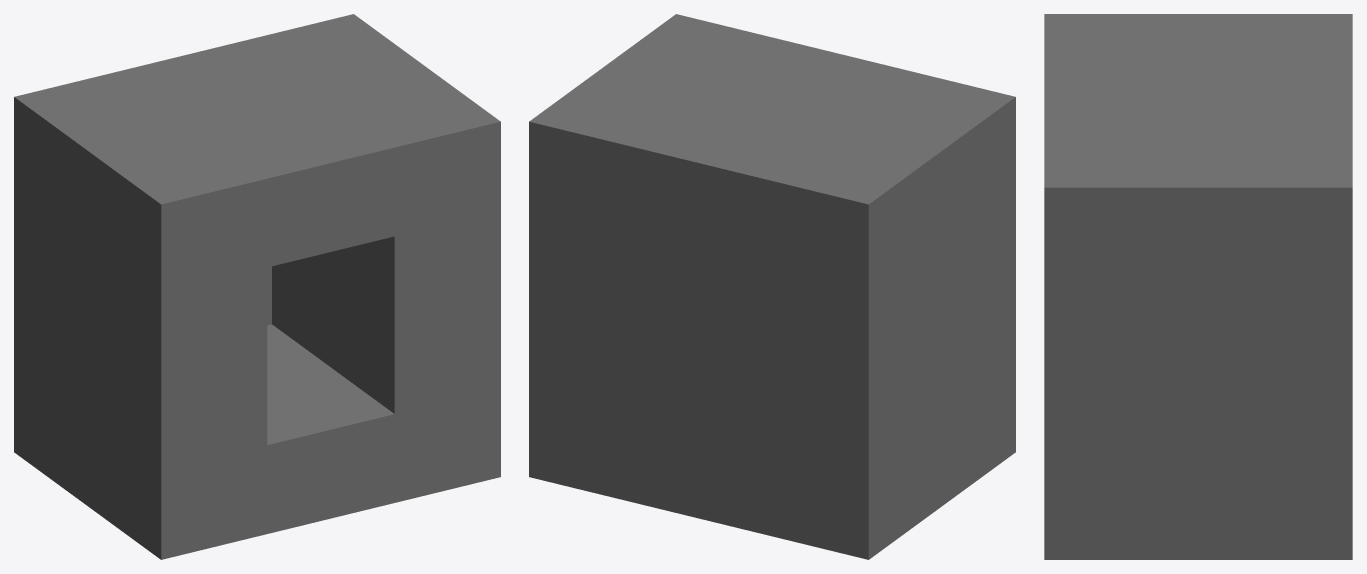
File: hole.obj
The picture shows the model from 3 angles, left to right: view 1: azimuth 30°, elevation 25°; view 2: azimuth 150°, elevation 25°; view 3: azimuth 270°, elevation 25°; orthographic projection. The views are drawn at different scales.
Parts seen in each view (by area): view 1: hole; view 2: hole; view 3: hole.
Part boxes in pixels (bbox=[...]): hole: bbox=[14, 14, 500, 559]; hole: bbox=[529, 14, 1015, 559]; hole: bbox=[1044, 14, 1352, 559].
Size of the model in its own units: 0.08 by 0.08 by 0.06.
1 material, 1 textured.
